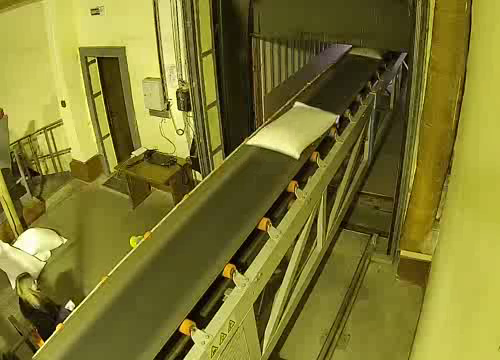bag: (241, 96, 344, 163), (345, 43, 389, 63)
